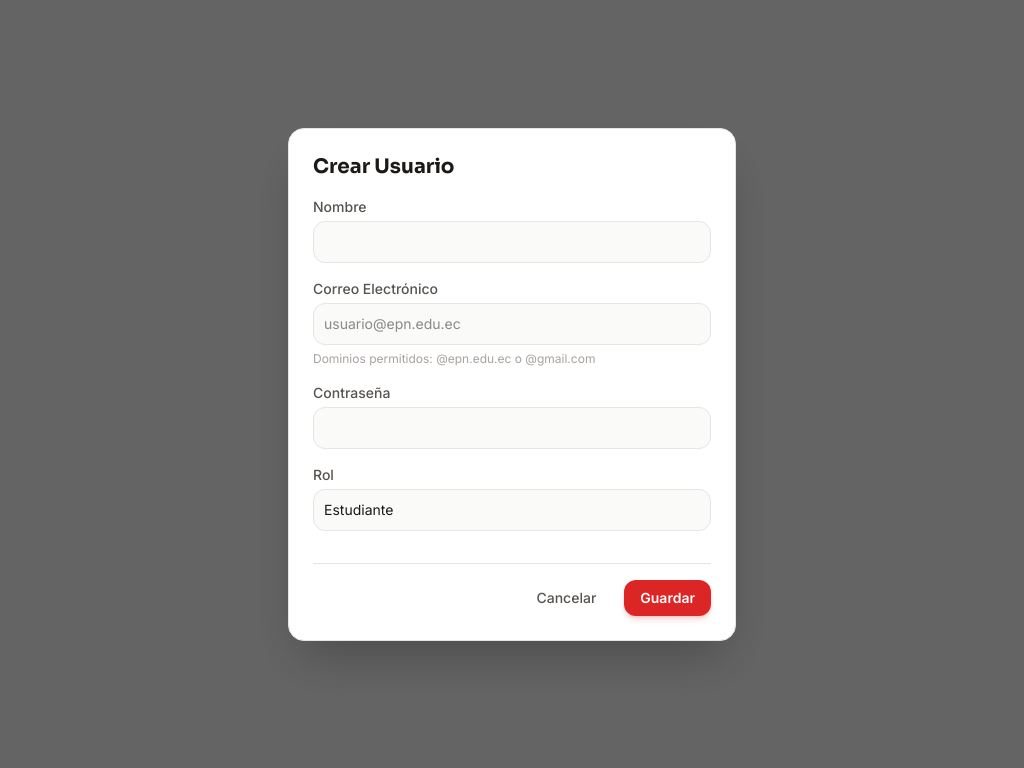
UserFormModal — dominios de correo permitidos › rechaza un dominio que no está permitido
Type "Carlos Ruiz" into the field labelled "Nombre" at (512, 242), box [313, 220, 711, 262]
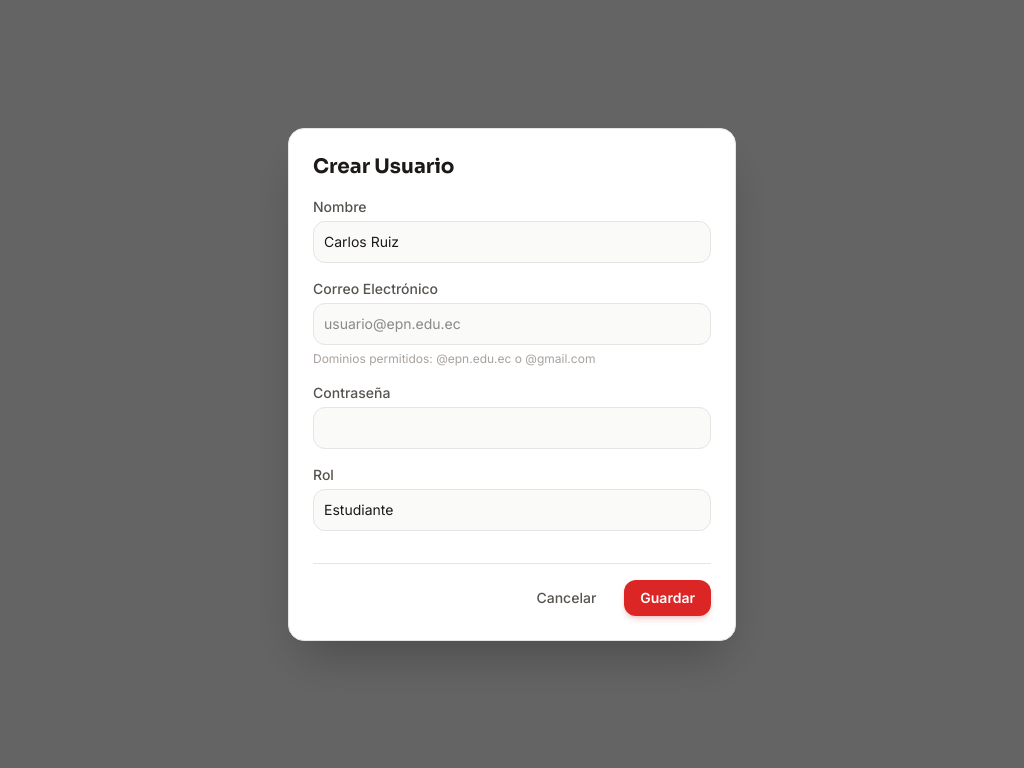
Type "carlos.ruiz@outlook.com" into the field labelled "Correo Electrónico" at (512, 324), box [313, 302, 711, 344]
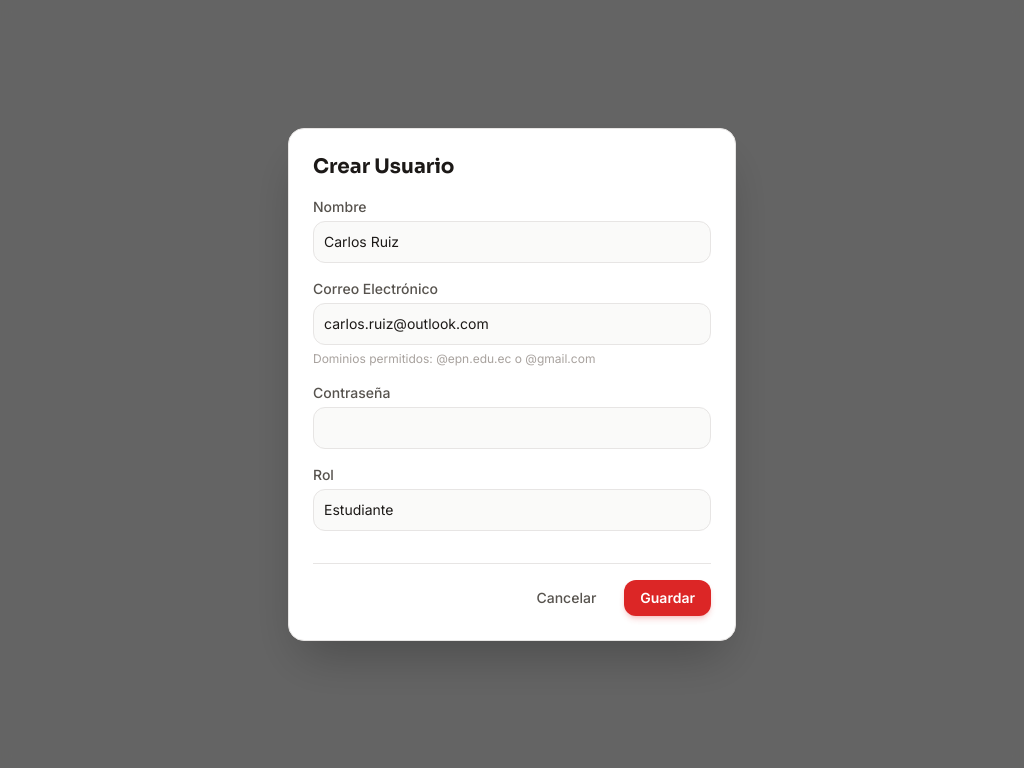
Type "Password123" into the password field labelled "Contraseña" at (512, 428), box [313, 406, 711, 448]
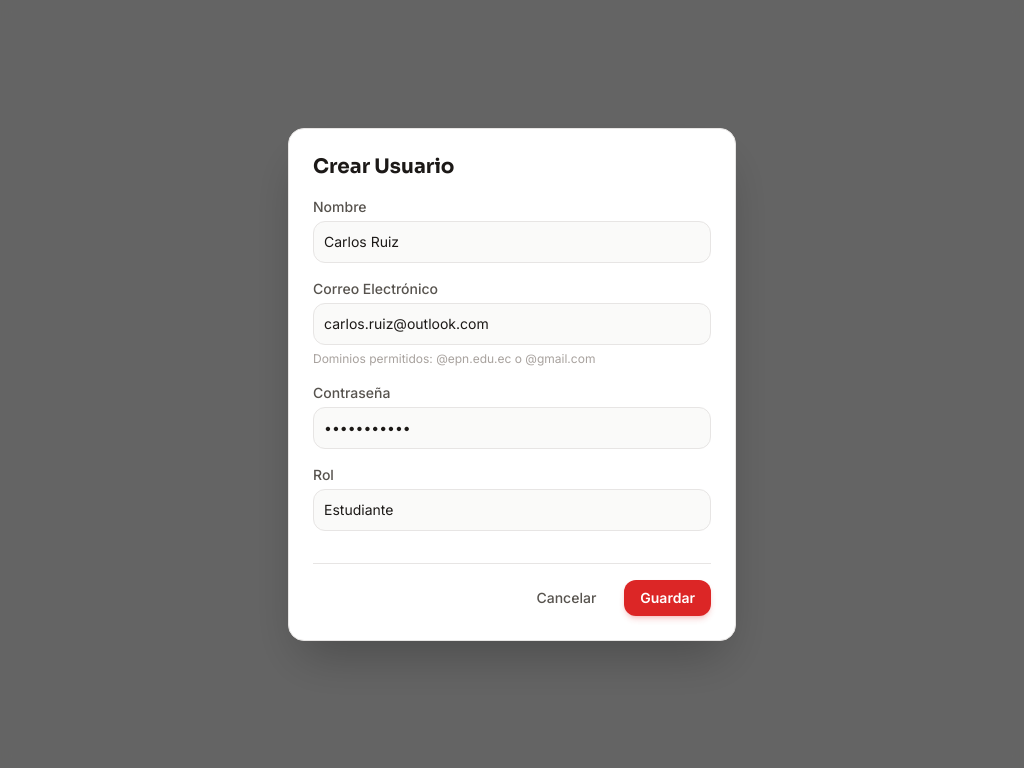
Click the button "Guardar" at (668, 598), box [624, 580, 711, 616]
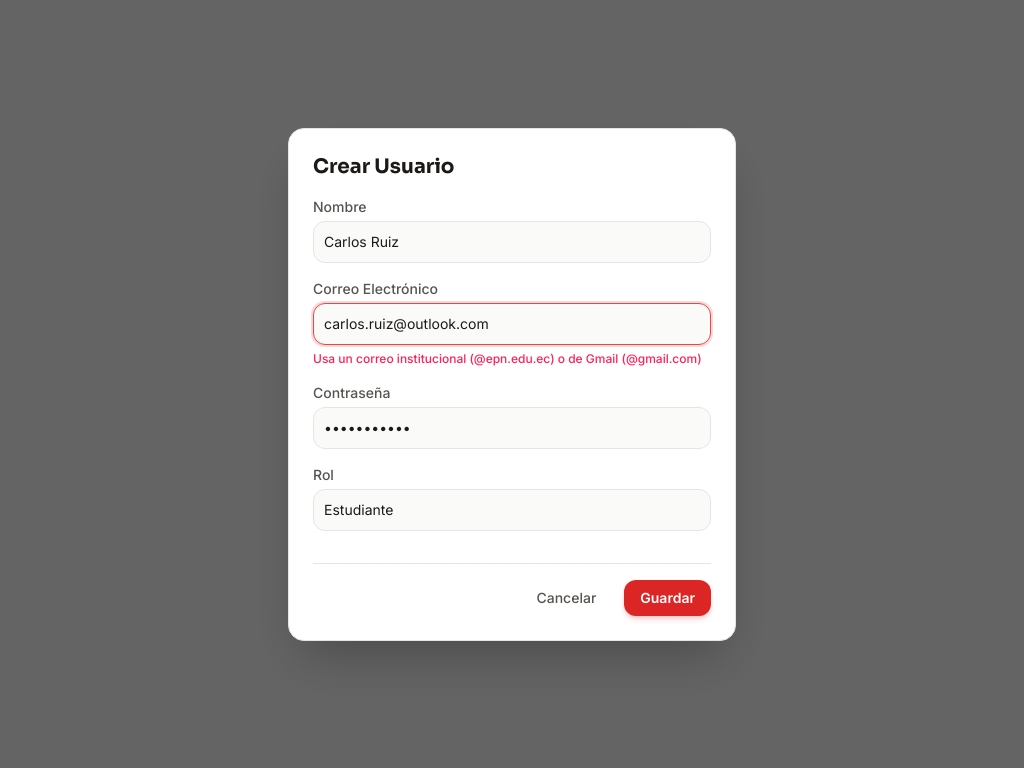
Expected: the text "Usa un correo institucional (@epn.edu.ec) o de Gmail (@gmail.com)" is shown, [313, 350, 711, 366]
